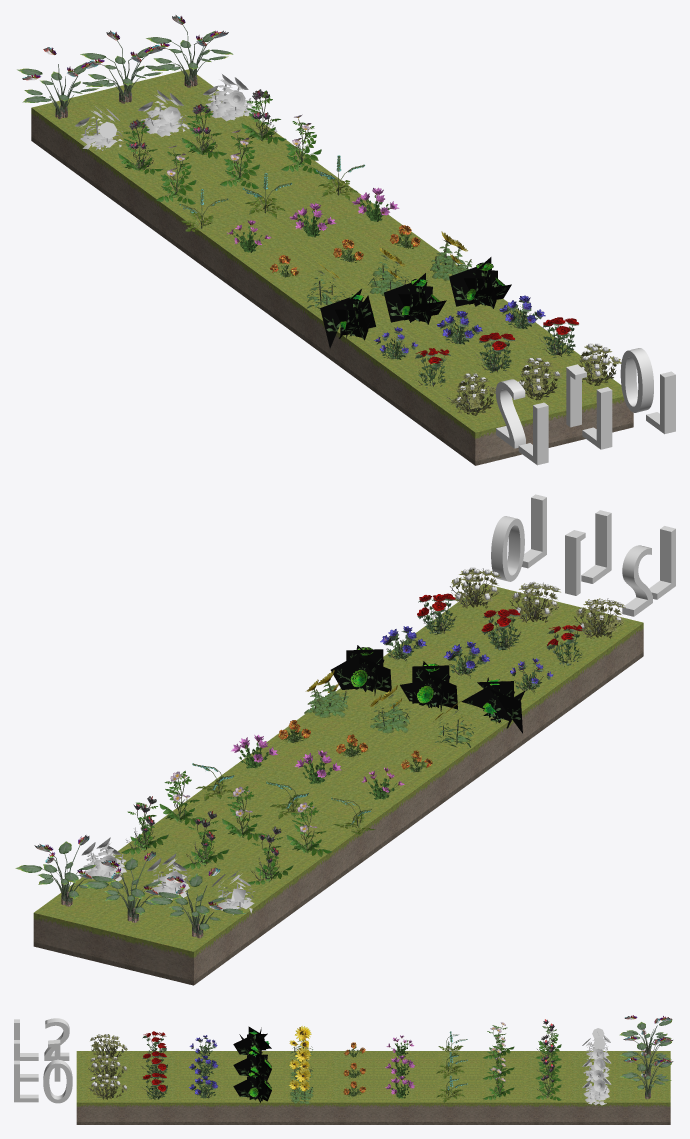
File: 000 Algodon.fbx
3 renders of one model, top to bottom at view 1: azimuth 30°, elevation 25°; view 2: azimuth 150°, elevation 25°; view 3: azimuth 270°, elevation 25°, orthographic. The views are drawn at different scales.
Visible parts, largest first — view 1: Tierra, L0 (×10), L1 (×9), L2 (×6), typeMesh1, typeMesh3, typeMesh2, L3, L4; view 2: Tierra, L0 (×9), L1 (×9), L2 (×6), typeMesh1, typeMesh3, typeMesh2, L3; view 3: Tierra, L0 (×12), L1 (×11), L2 (×9), typeMesh1, typeMesh3, L3, typeMesh2, L4, L5.
Part boxes in pixels (<box>): Tierra: <box>31,69,633,465</box>; L0 (×10): <box>146,15,621,385</box>; L1 (×9): <box>80,30,562,400</box>; L2 (×6): <box>17,47,495,415</box>; typeMesh1: <box>620,348,675,434</box>; typeMesh3: <box>495,379,548,465</box>; typeMesh2: <box>566,364,612,449</box>; L3: <box>320,289,375,348</box>; L4: <box>289,203,336,237</box>; Tierra: <box>33,583,643,985</box>; L0 (×9): <box>15,567,500,906</box>; L1 (×9): <box>81,581,560,922</box>; L2 (×6): <box>146,598,625,938</box>; typeMesh1: <box>491,494,546,581</box>; typeMesh3: <box>622,526,675,616</box>; typeMesh2: <box>565,510,611,595</box>; L3: <box>461,677,525,733</box>; Tierra: <box>76,1051,670,1124</box>; L0 (×12): <box>88,1057,673,1105</box>; L1 (×11): <box>88,1035,672,1081</box>; L2 (×9): <box>90,1015,672,1061</box>; typeMesh1: <box>14,1059,72,1103</box>; typeMesh3: <box>14,1018,69,1060</box>; L3: <box>233,1026,271,1054</box>; typeMesh2: <box>14,1039,60,1081</box>; L4: <box>385,1055,415,1077</box>; L5: <box>386,1035,413,1057</box>.
Bounding box in the file's own units: 6.77 × 2.83 × 26.94.
